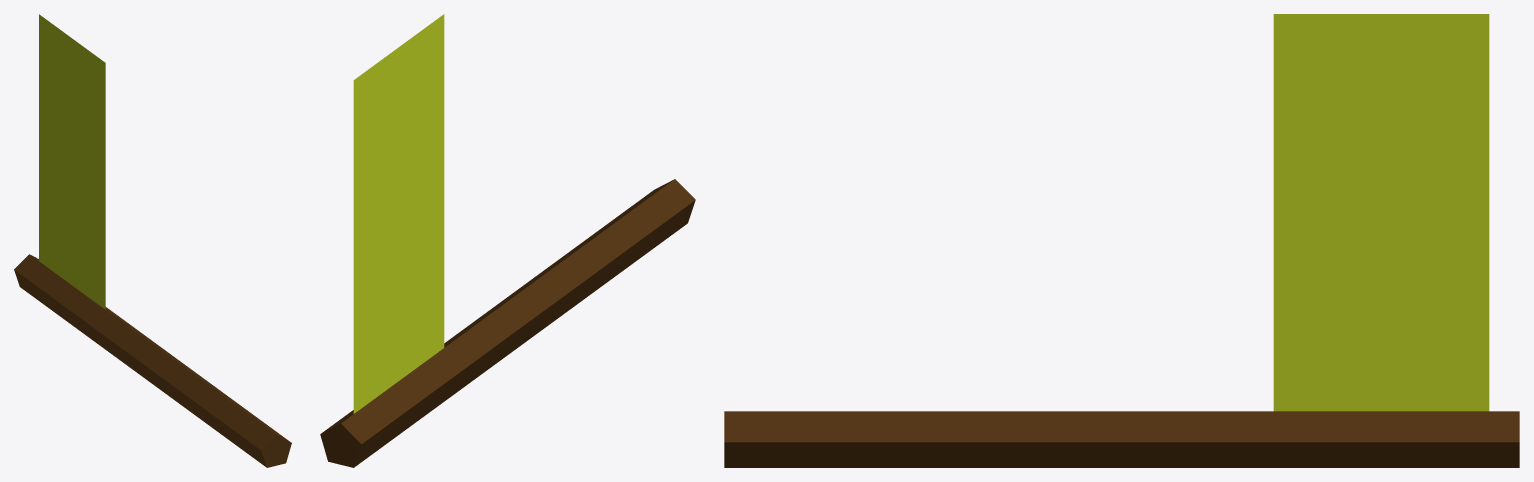
Rendered from flag 2.fbx.
The picture shows the model from 3 angles, left to right: view 1: azimuth 30°, elevation 25°; view 2: azimuth 150°, elevation 25°; view 3: azimuth 270°, elevation 25°; orthographic projection. The views are drawn at different scales.
Visible parts, largest first — view 1: Plane; view 2: Plane; view 3: Plane.
Boxes of the visible parts, x1,y1,x2,y2 form: Plane: (14, 14, 291, 467); Plane: (320, 14, 695, 467); Plane: (724, 14, 1519, 467).
Bounding box in the file's own units: 190 × 1643 × 2653.
